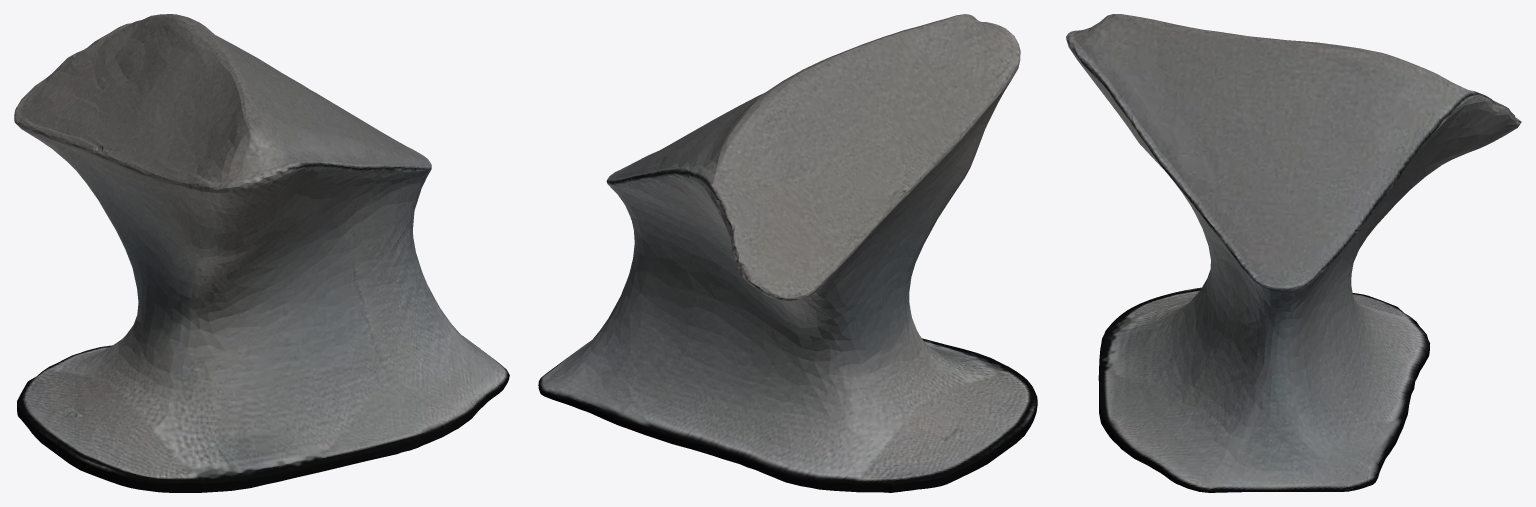
The model's file is pabellon_mexico.glb.
3 renders of one model, left to right at view 1: azimuth 30°, elevation 25°; view 2: azimuth 150°, elevation 25°; view 3: azimuth 270°, elevation 25°, orthographic. The views are drawn at different scales.
Parts seen in each view (by area): view 1: tmpwf2wt31m.ply; view 2: tmpwf2wt31m.ply; view 3: tmpwf2wt31m.ply.
Boxes of the visible parts, x1,y1,x2,y2 form: tmpwf2wt31m.ply: (14,14,509,492); tmpwf2wt31m.ply: (538,14,1037,492); tmpwf2wt31m.ply: (1066,14,1521,492).
Bounding box in the file's own units: 1.99 × 1.6 × 1.95.
Materials: 1 (1 with a texture image).
